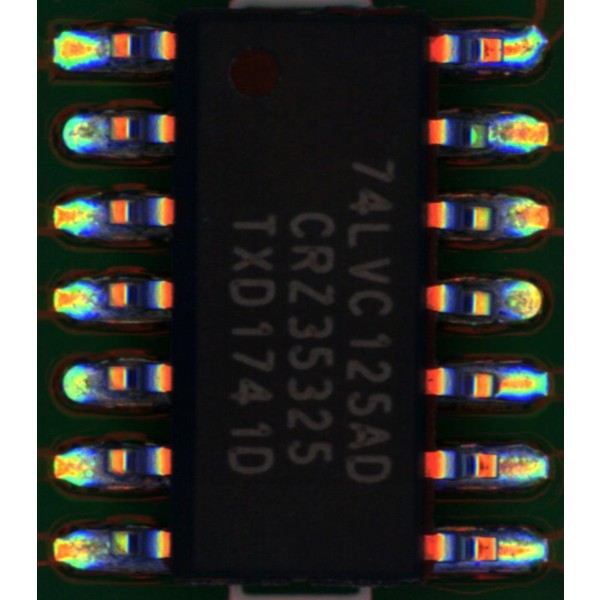Bad_podu: (483, 377, 519, 395), (488, 459, 520, 477), (489, 542, 521, 558), (493, 41, 522, 56)
